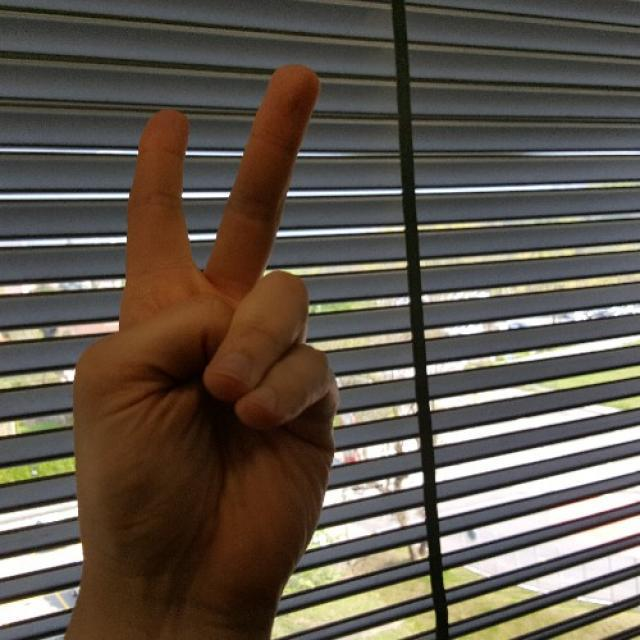scissors: (73, 63, 340, 530)
